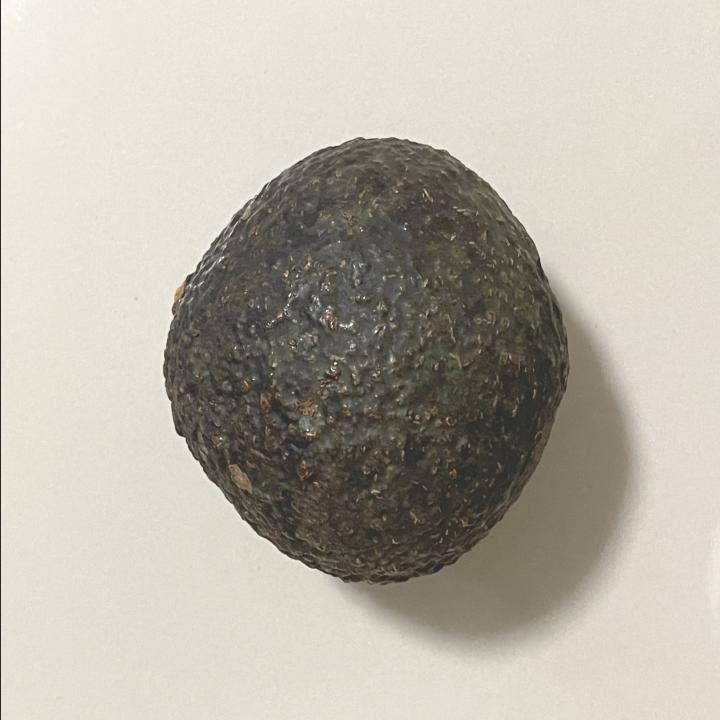Level1: (148, 117, 582, 601)
